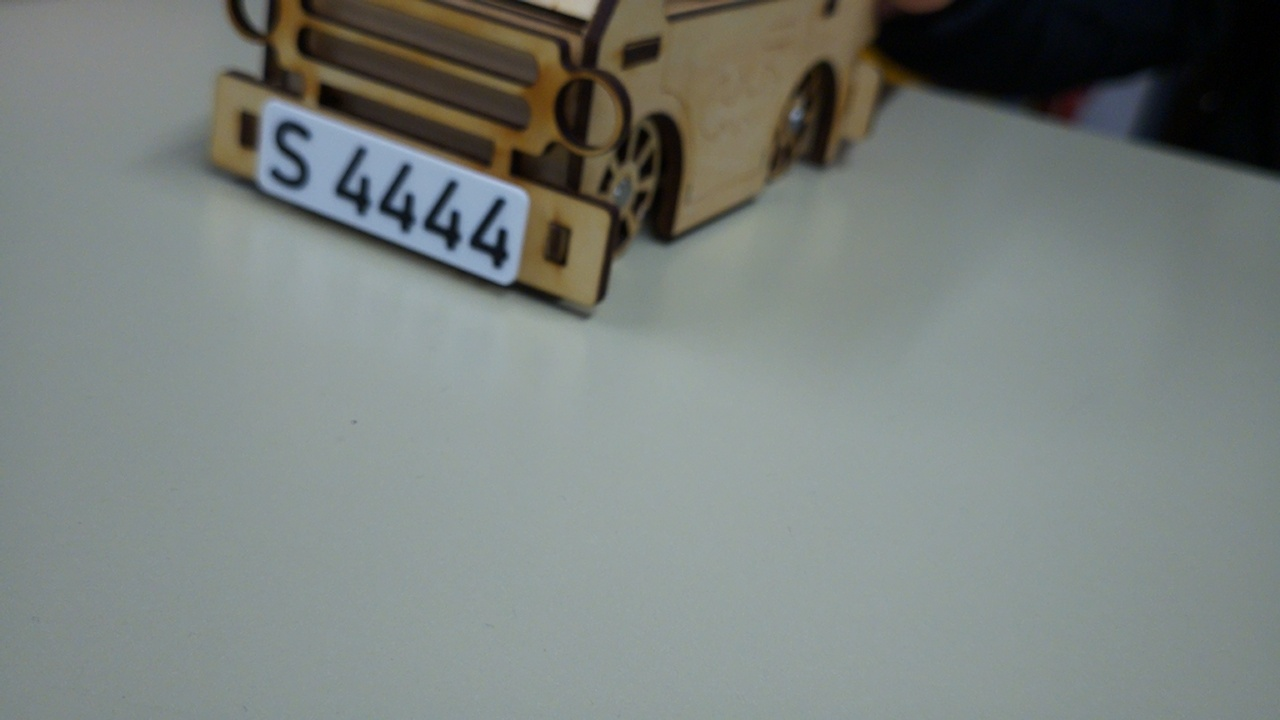license_plate: (256, 100, 530, 285)
